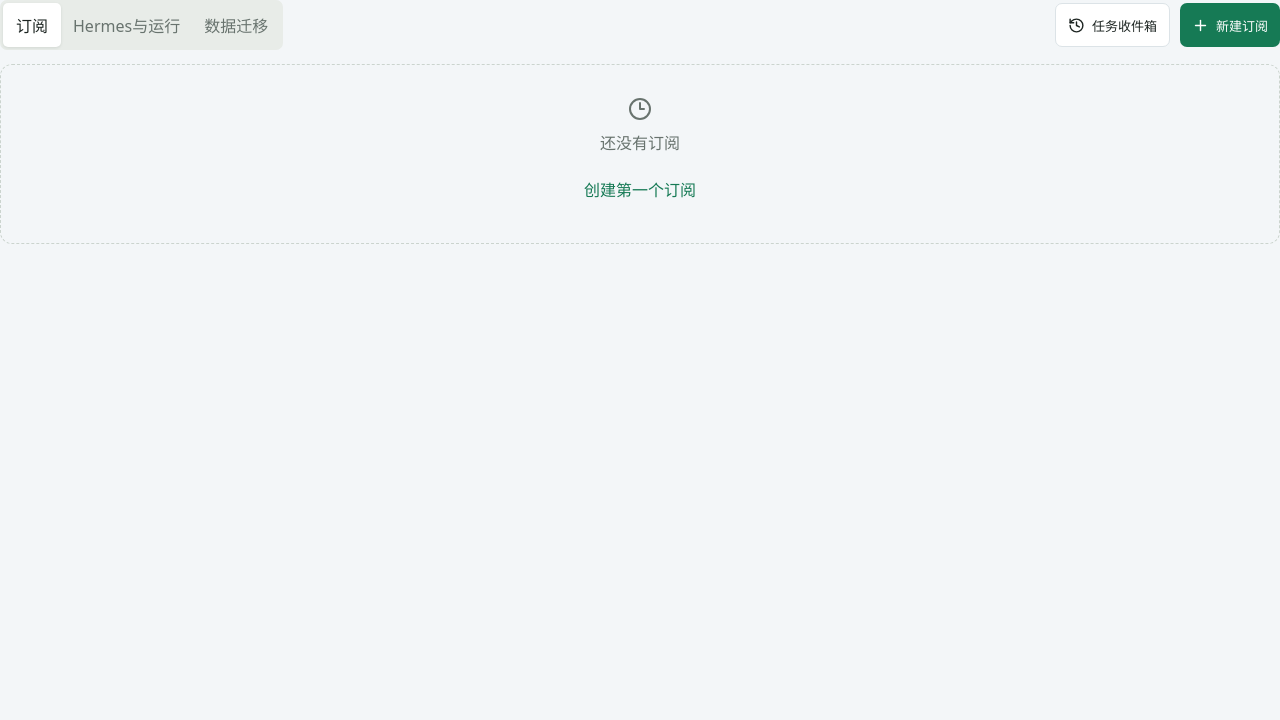
Test: 输入关注目标后给出智能模板建议
Expected: the text "还没有订阅" is shown, [600,131,680,157]
Click the button "新建订阅" at {"x": 1230, "y": 25}, box [1180,3,1279,47]
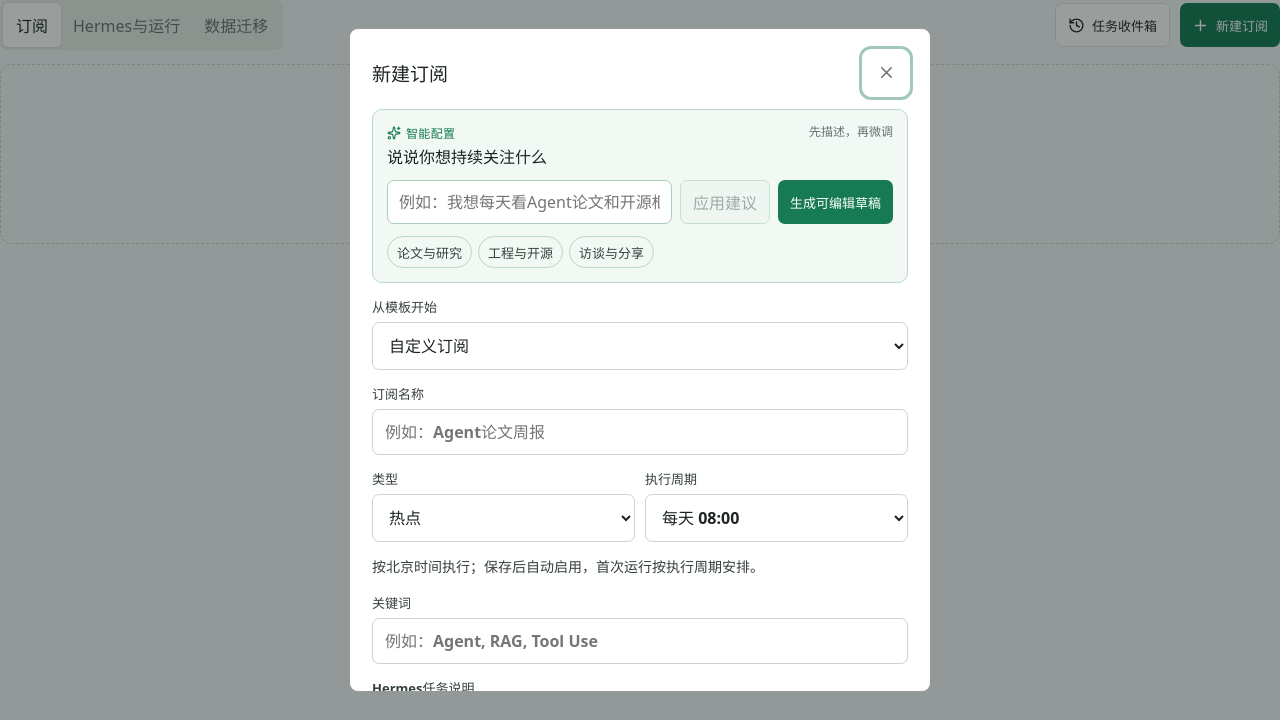
Type "我想看GitHub上的AI工程和版本更新" into the field named "描述关注目标" at {"x": 530, "y": 202}, box [387,180,672,224]
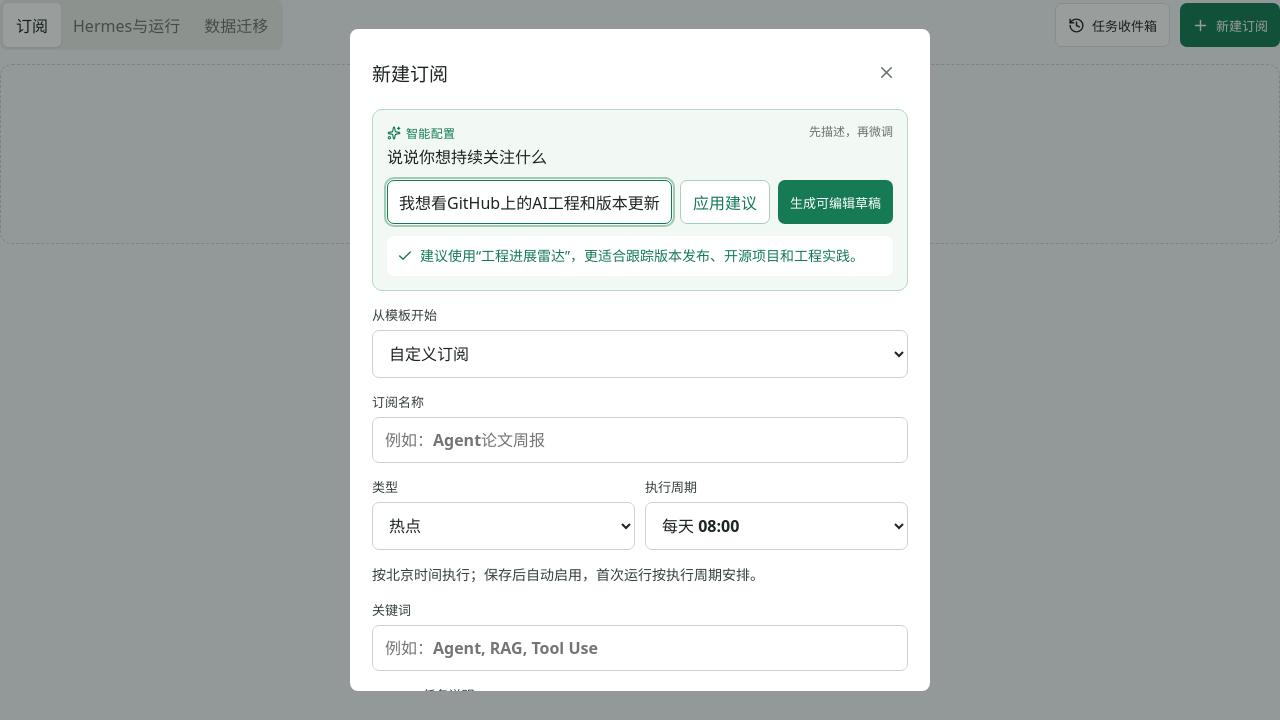
Now the message shows "工程进展雷达", box [481,246,565,265]
Click the button "应用建议" at {"x": 725, "y": 202}, box [680,180,770,224]
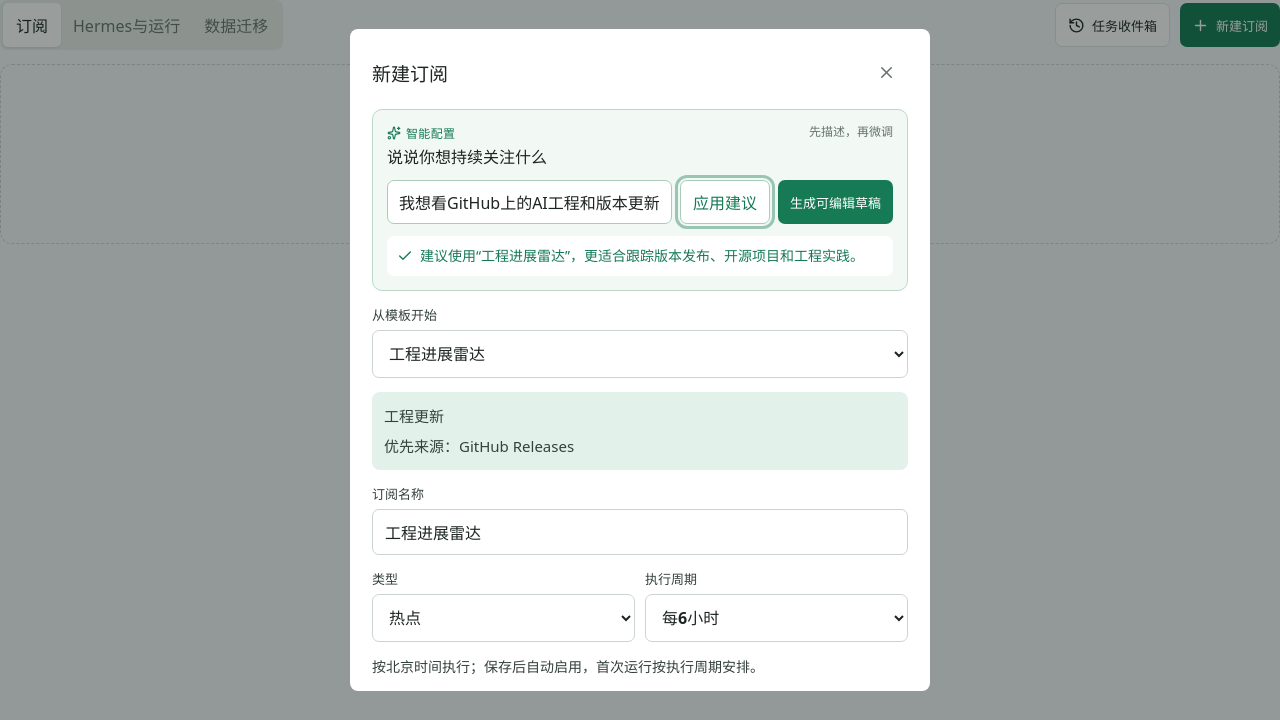
Now the dropdown labelled "类型" shows "热点", box [372,594,635,642]
Now the field labelled "订阅名称" holds "工程进展雷达", box [372,509,908,555]
